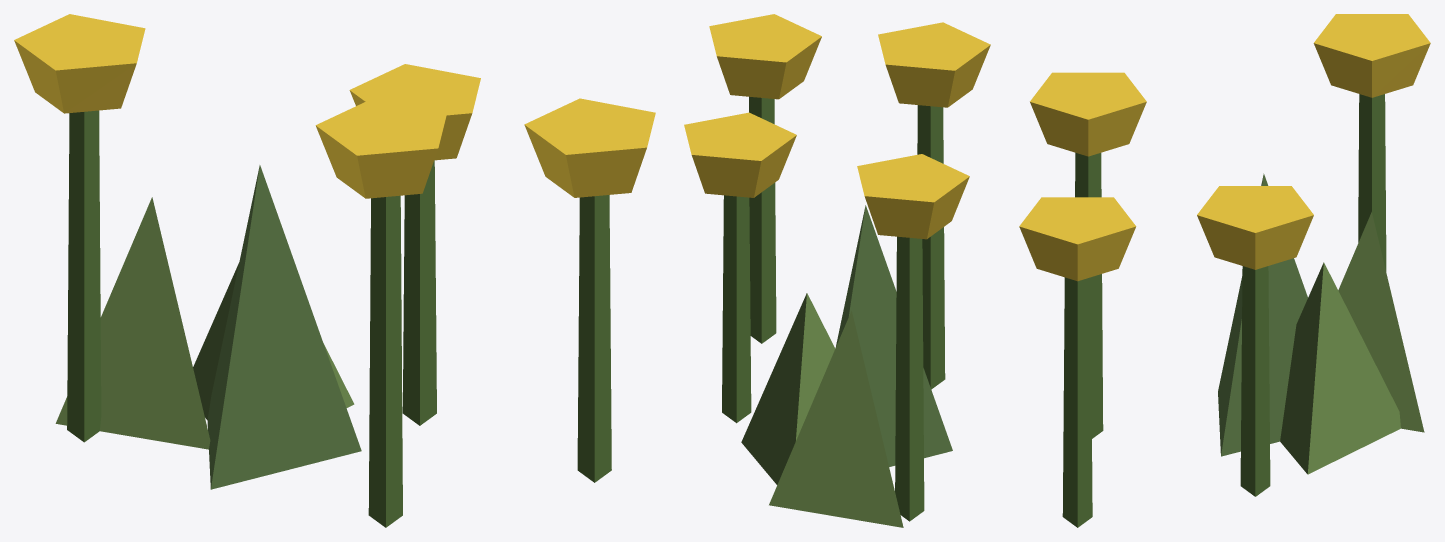
File: dandelion_2.obj
The picture shows the model from 3 angles, left to right: view 1: azimuth 30°, elevation 25°; view 2: azimuth 150°, elevation 25°; view 3: azimuth 270°, elevation 25°; orthographic projection. The views are drawn at different scales.
Visible parts, largest first — view 1: dandelion_2; view 2: dandelion_2; view 3: dandelion_2.
Part boxes in pixels (left/top/right/bottom): dandelion_2: left=14, top=14, right=655, bottom=527; dandelion_2: left=684, top=14, right=990, bottom=527; dandelion_2: left=1019, top=14, right=1430, bottom=527.
Size of the model in its own units: 0.3691 by 0.3052 by 0.3341.
